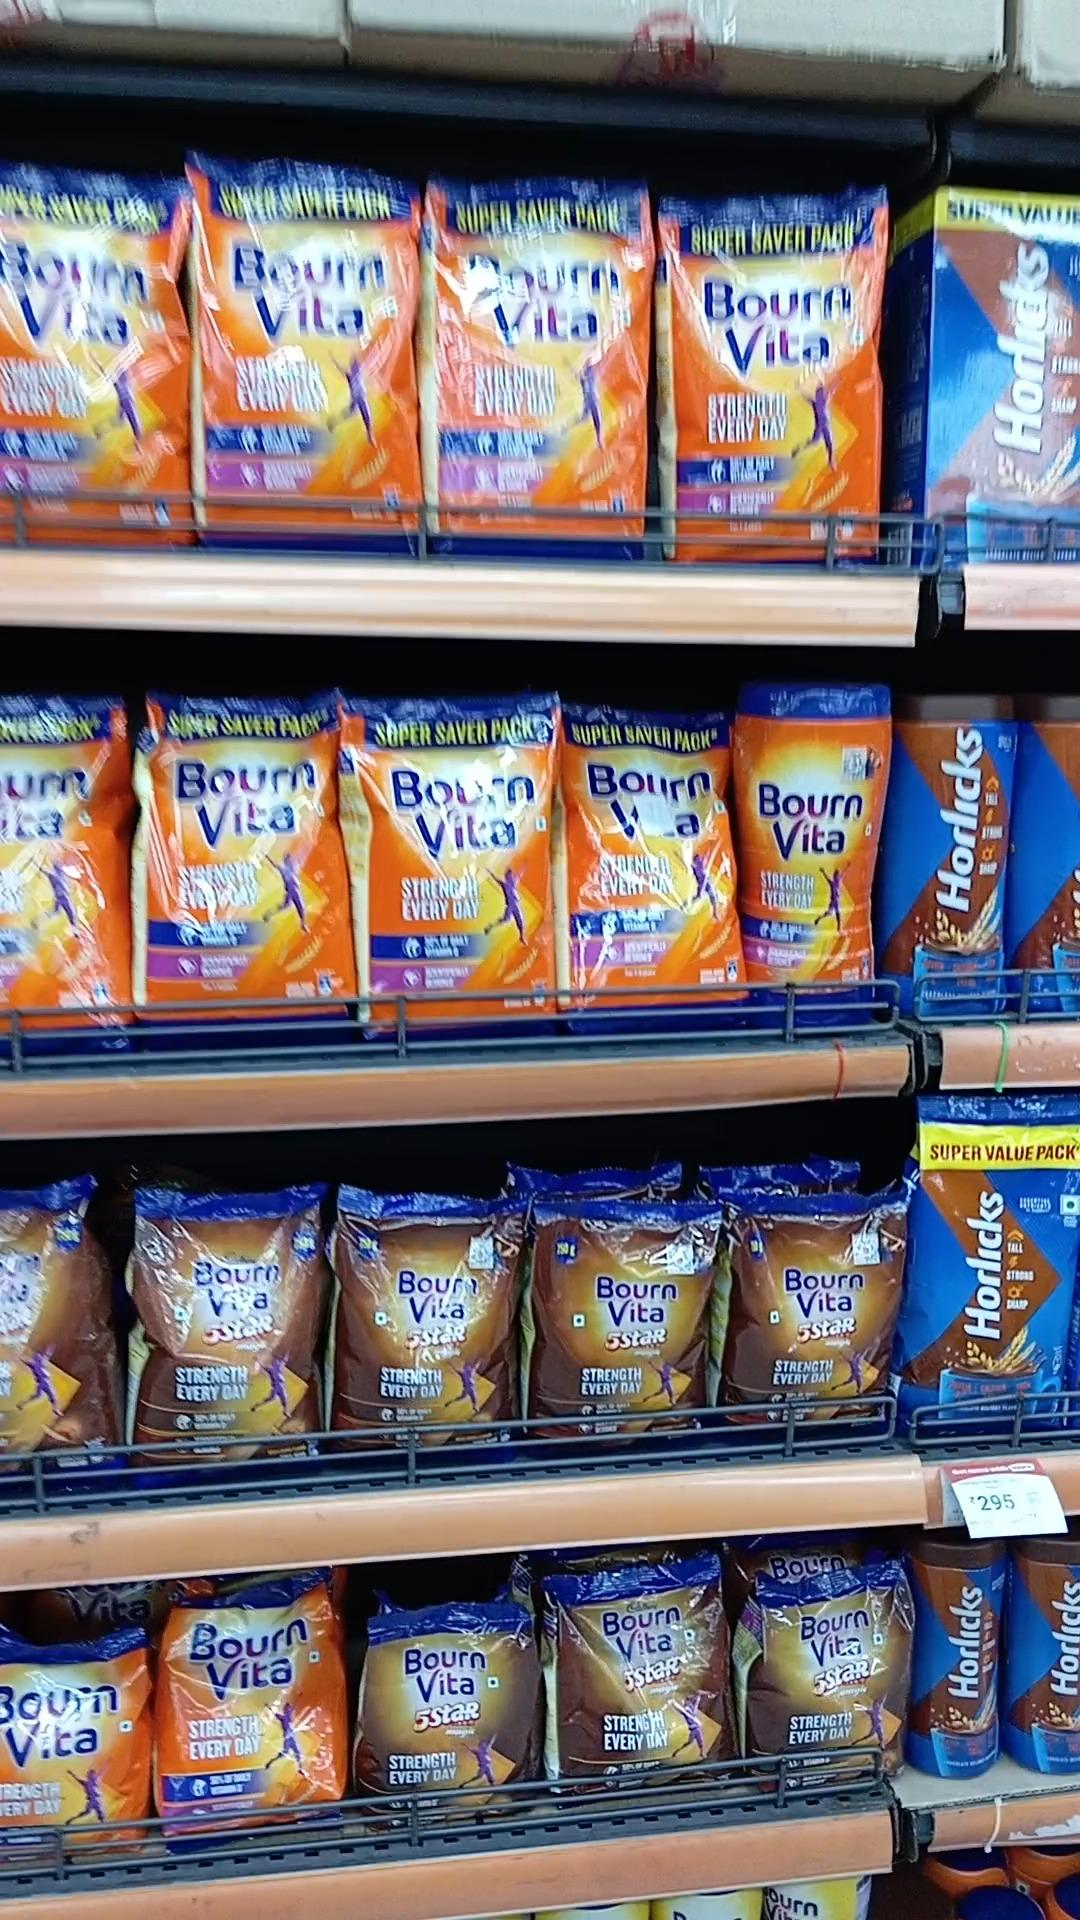BOURN_VITA_1_KG_JAR: (753, 682, 893, 1044)
BOURN_VITA_1_KG_POUCH: (194, 169, 421, 558), (676, 177, 899, 562), (438, 165, 646, 562), (142, 696, 351, 1038), (360, 694, 562, 1046), (0, 160, 177, 547), (570, 713, 736, 1047), (0, 686, 128, 1067)
BOURN_VITA_500_G_POUCH: (161, 1596, 338, 1840), (1, 1644, 142, 1863)
BOURN_VITA_FIVE_STAR_MAGIC_500_G_POUCH: (555, 1569, 721, 1822), (361, 1617, 538, 1829), (757, 1577, 907, 1795)
BOURN_VITA_FIVE_STAR_MAGIC_750_G_POUCH: (136, 1176, 319, 1490), (326, 1191, 510, 1457), (530, 1197, 724, 1449), (724, 1196, 889, 1436), (0, 1172, 123, 1491)
HORLICK_CHOCOLATE_1_KG_JAR: (901, 691, 1017, 1026)
HORLICK_CHOCOLATE_1_KG_PACK: (924, 187, 1080, 568)
HORLICK_CHOCOLATE_500_G_JAR: (913, 1542, 997, 1779), (1004, 1532, 1080, 1788)
HORLICK_CHOCOLATE_750_G_POUCH: (909, 1098, 1080, 1455)
